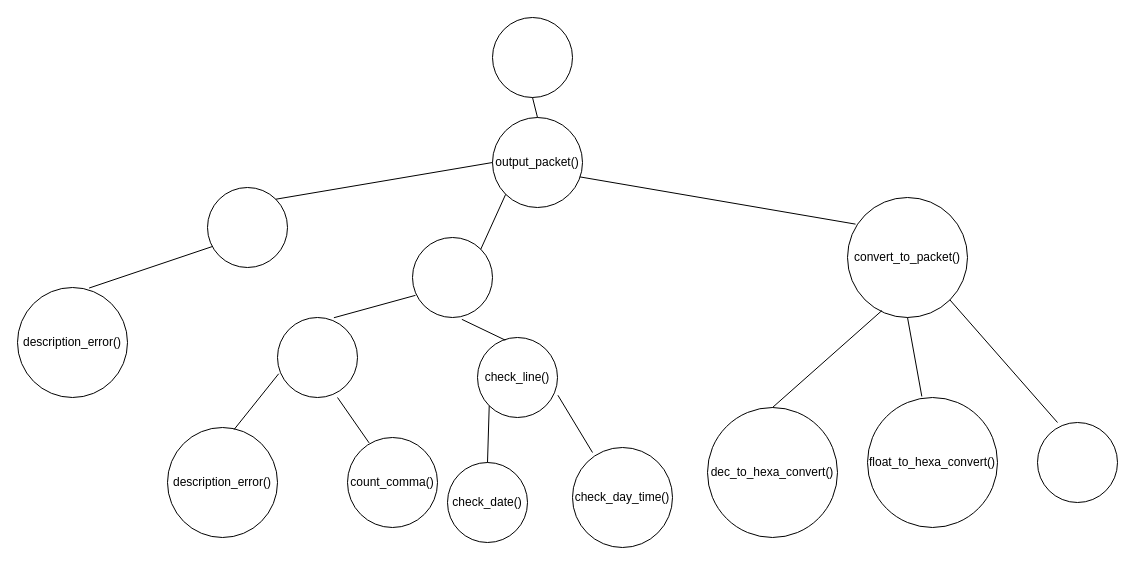
This 1135x565 diagram has some shape labels left out. Each missing label, with the centre of its shape:
check_data(): the point at 452,277
check_file(): the point at 247,227
check_format(): the point at 317,357
get_time(): the point at 1077,462
main(): the point at 532,57
